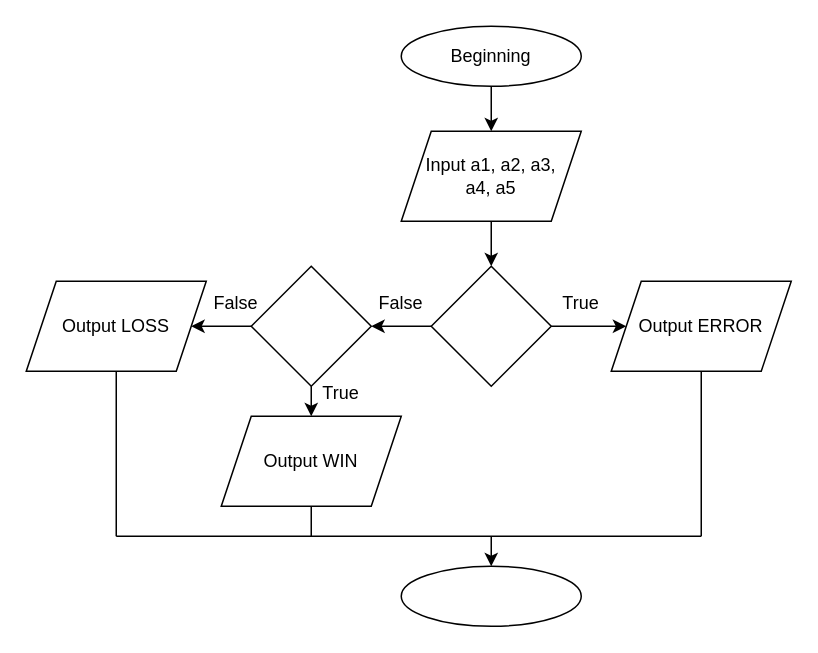
Image size: 818x653. Some labels were removed from this diagram. The shapes that lost their labels are listed below. From the top down, each one's centre as x and y in pixels, then its label:
At (310,325): "a1>=a2 and a2>=a3 and a3>=a4 and a4>=a5".
At (490,325): "a1 or a2 or a3 or a4 or a5 <= 0".
At (490,595): "End".
